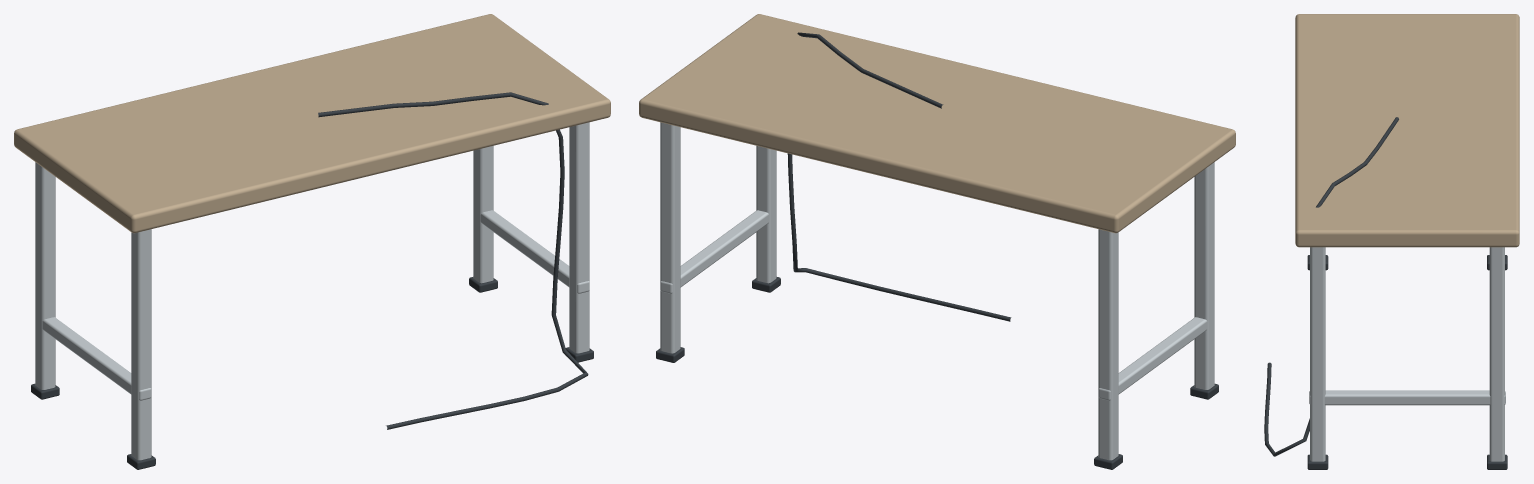
The model's file is fencing-club-and-tournament-piste-scoring-table-e96d78a9__31215.glb.
3 renders of one model, left to right at view 1: azimuth 30°, elevation 25°; view 2: azimuth 150°, elevation 25°; view 3: azimuth 270°, elevation 25°, orthographic. The views are drawn at different scales.
Visible parts, largest first — view 1: scoring-table; view 2: scoring-table; view 3: scoring-table.
Part boxes in pixels (x1,y1,x2,y2): scoring-table: (14, 14, 610, 469); scoring-table: (639, 14, 1235, 469); scoring-table: (1264, 14, 1519, 469).
Size of the model in its own units: 1.5 by 0.826 by 0.7402.
